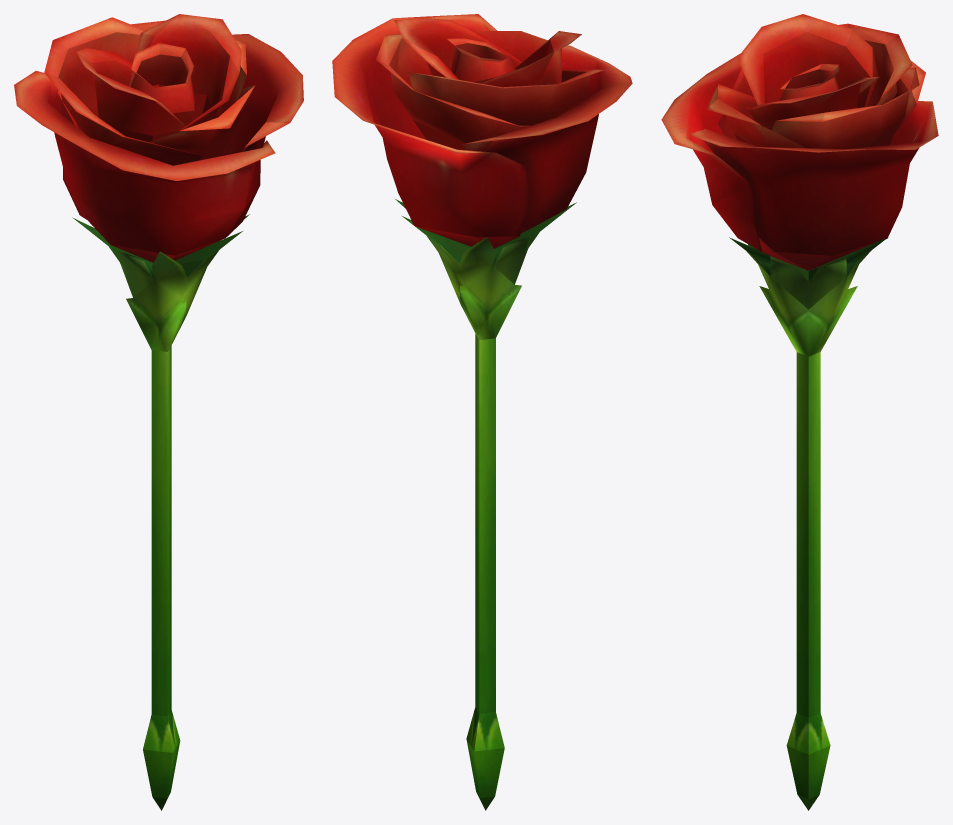
File: meiguiyugan.fbx
3 views of the same model, side by side, from view 1: azimuth 30°, elevation 25°; view 2: azimuth 150°, elevation 25°; view 3: azimuth 270°, elevation 25° (orthographic). The views are drawn at different scales.
Parts seen in each view (by area): view 1: mgh_weapon_r_002; view 2: mgh_weapon_r_002; view 3: mgh_weapon_r_002.
Part boxes in pixels (x1=…): mgh_weapon_r_002: x1=14, y1=14, x2=303, y2=810; mgh_weapon_r_002: x1=332, y1=14, x2=632, y2=810; mgh_weapon_r_002: x1=661, y1=14, x2=938, y2=810.
Bounding box in the file's own units: 130 × 385 × 128.
